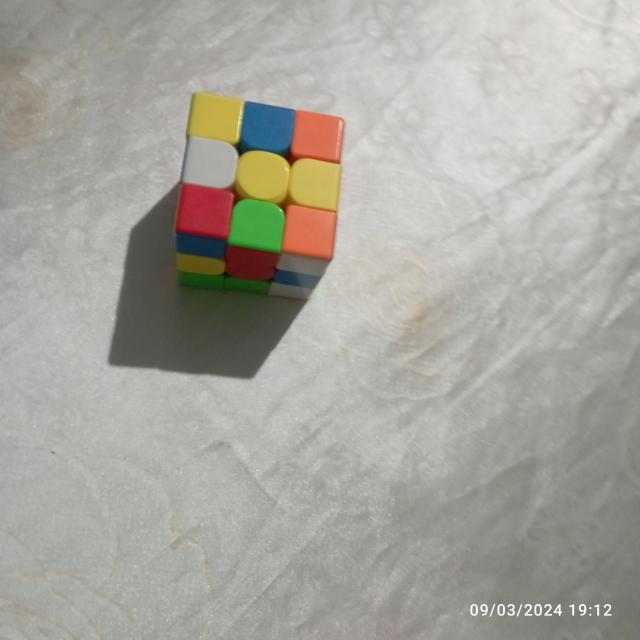Rub: (168, 82, 354, 314)
